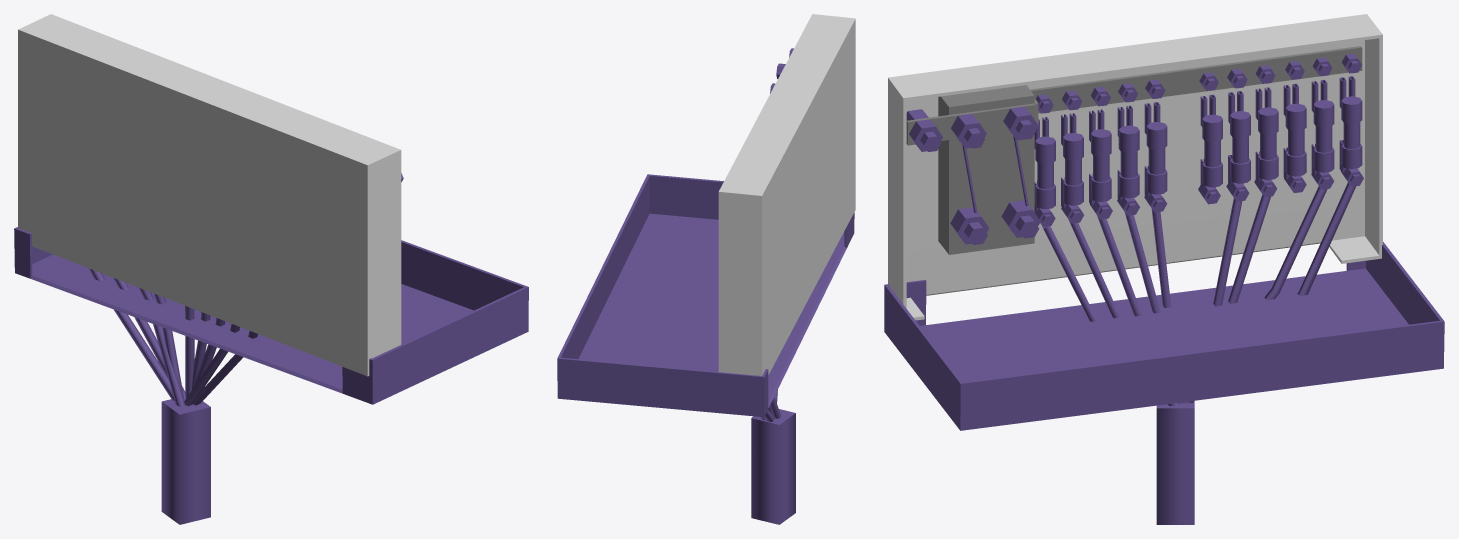
File: BeiDianHe.fbx
3 views of the same model, side by side, from view 1: azimuth 30°, elevation 25°; view 2: azimuth 150°, elevation 25°; view 3: azimuth 270°, elevation 25° (orthographic). The views are drawn at different scales.
Parts seen in each view (by area): view 1: BeiDianHe; view 2: BeiDianHe; view 3: BeiDianHe.
Part boxes in pixels (x1,y1,x2,y2): BeiDianHe: [14, 14, 528, 524]; BeiDianHe: [557, 14, 855, 524]; BeiDianHe: [884, 14, 1444, 524].
Bounding box in the file's own units: 30.84 × 40.1 × 43.99.
